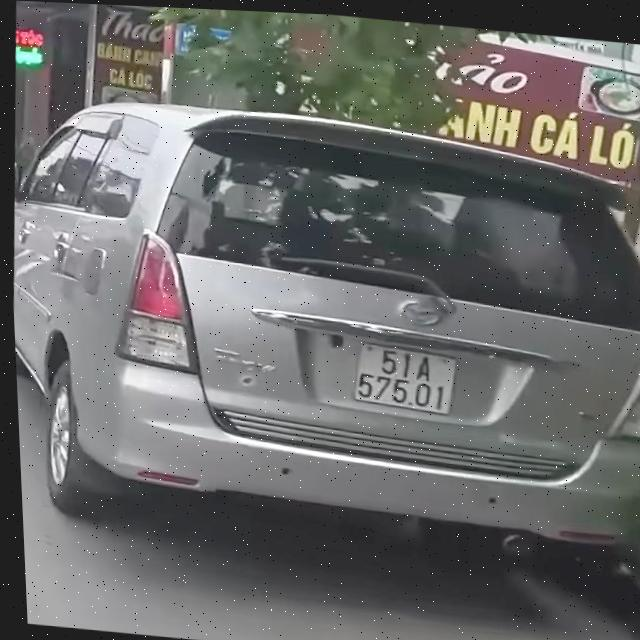car: (4, 80, 640, 608)
plate: (347, 324, 464, 428)
